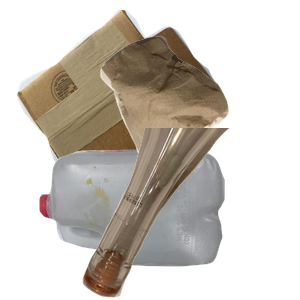cardboard: (14, 10, 222, 190)
glass: (80, 128, 300, 300)
plastic: (37, 147, 254, 300)
trash: (98, 34, 300, 211)
